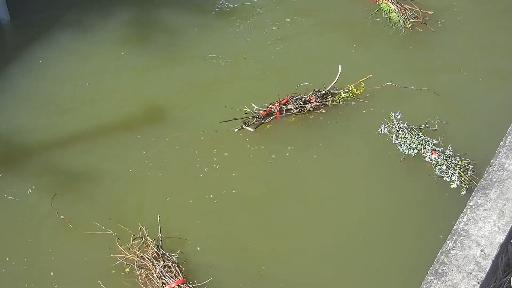twig: (207, 62, 438, 133), (374, 103, 499, 190), (85, 211, 202, 288), (327, 0, 448, 37)
